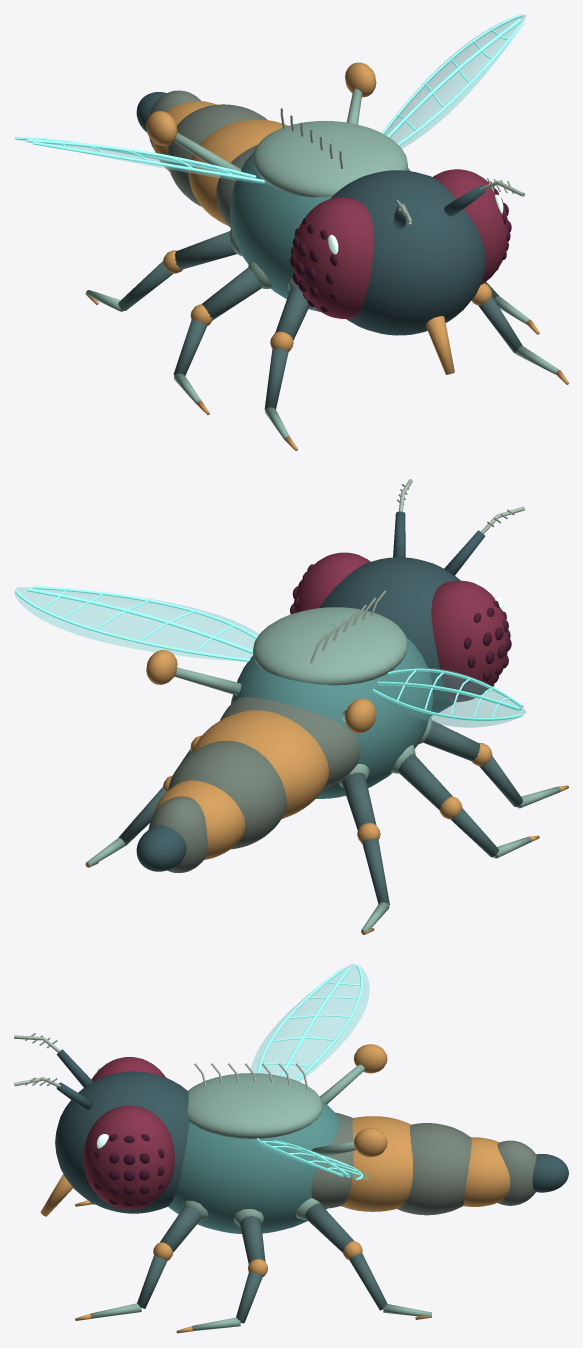
Rendered from decision_chamber_fly.glb.
3 renders of one model, top to bottom at view 1: azimuth 30°, elevation 25°; view 2: azimuth 150°, elevation 25°; view 3: azimuth 270°, elevation 25°, orthographic. The views are drawn at different scales.
Visible parts, largest first — view 1: Fly | head capsule, Fly | dorsal thorax shield, Fly | compound eye -1, Fly | thorax, Fly | translucent veined wing +1, Fly | abdomen segment 2, Fly | compound eye +1, Fly | abdomen segment 3, Fly | translucent veined wing -1, Fly | mid femur -1, Fly | hind femur -1, Fly | fore femur -1 (+16 smaller); view 2: Fly | thorax, Fly | dorsal thorax shield, Fly | translucent veined wing +1, Fly | head capsule, Fly | compound eye -1, Fly | abdomen segment 3, Fly | abdomen segment 2, Fly | translucent veined wing -1, Fly | abdomen segment 1, Fly | abdomen segment 4, Fly | abdomen segment 5, Fly | compound eye +1 (+17 smaller); view 3: Fly | thorax, Fly | head capsule, Fly | dorsal thorax shield, Fly | compound eye +1, Fly | translucent veined wing -1, Fly | abdomen segment 3, Fly | abdomen segment 2, Fly | abdomen segment 4, Fly | abdomen segment 1, Fly | abdomen segment 5, Fly | abdominal tip, Fly | hind femur +1 (+12 smaller).
Boxes of the visible parts, x1,y1,x2,y2 form: Fly | head capsule: (330,170,485,335); Fly | dorsal thorax shield: (252,121,407,197); Fly | compound eye -1: (292,197,374,318); Fly | thorax: (230,140,410,311); Fly | translucent veined wing +1: (384,15,526,148); Fly | abdomen segment 2: (188,119,288,225); Fly | compound eye +1: (433,169,508,284); Fly | abdomen segment 3: (167,104,267,206); Fly | translucent veined wing -1: (14,138,266,183); Fly | mid femur -1: (202,267,261,319); Fly | hind femur -1: (175,231,236,269); Fly | fore femur -1: (275,286,309,340); Fly | thorax: (231,624,433,798); Fly | dorsal thorax shield: (253,607,407,685); Fly | translucent veined wing +1: (14,587,258,661); Fly | head capsule: (319,557,460,715); Fly | compound eye -1: (431,580,508,702); Fly | abdomen segment 3: (168,740,286,849); Fly | abdomen segment 2: (192,710,328,818); Fly | translucent veined wing -1: (373,667,526,727); Fly | abdomen segment 1: (220,696,360,789); Fly | abdomen segment 4: (154,780,245,859); Fly | abdomen segment 5: (148,796,207,872); Fly | compound eye +1: (293,552,370,613); Fly | thorax: (168,1087,339,1233); Fly | head capsule: (55,1071,189,1213); Fly | dorsal thorax shield: (187,1073,323,1138); Fly | compound eye +1: (83,1105,174,1209); Fly | translucent veined wing -1: (250,964,369,1081); Fly | abdomen segment 3: (397,1123,471,1215); Fly | abdomen segment 2: (341,1116,412,1211); Fly | abdomen segment 4: (463,1137,510,1206); Fly | abdomen segment 1: (311,1112,353,1208); Fly | abdomen segment 5: (497,1140,536,1205); Fly | abdominal tip: (532,1154,568,1192); Fly | hind femur +1: (305,1203,353,1252).
Bounding box in the file's own units: 2.26 × 1.02 × 2.46.
